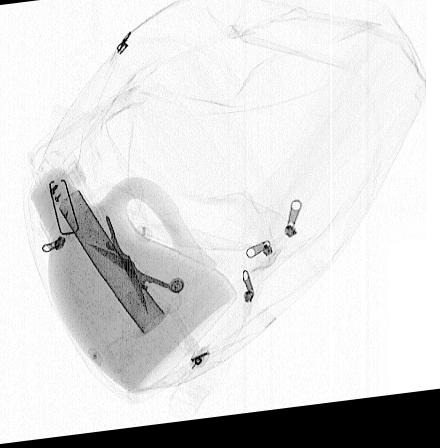Scissors: (83, 203, 185, 322)
